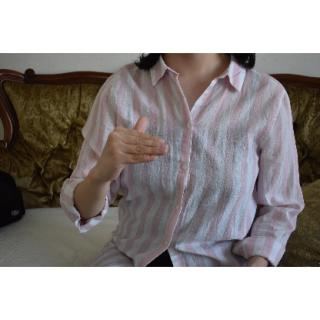KHAA: (88, 115, 174, 179)
